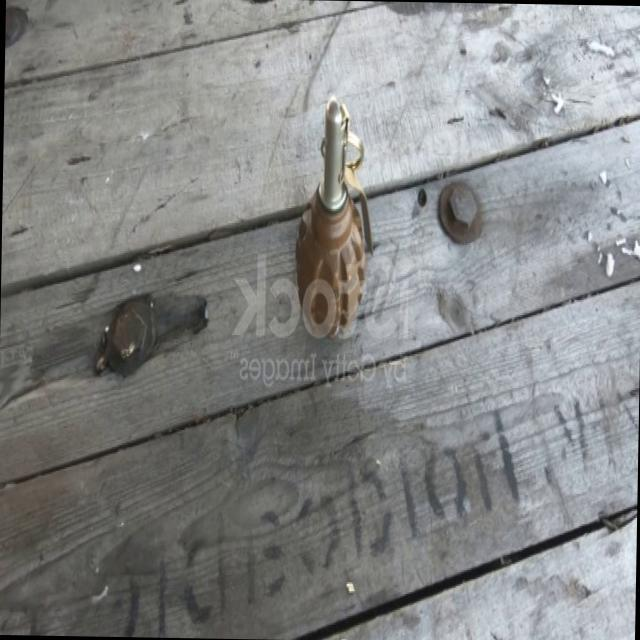grenade: (294, 103, 377, 348)
